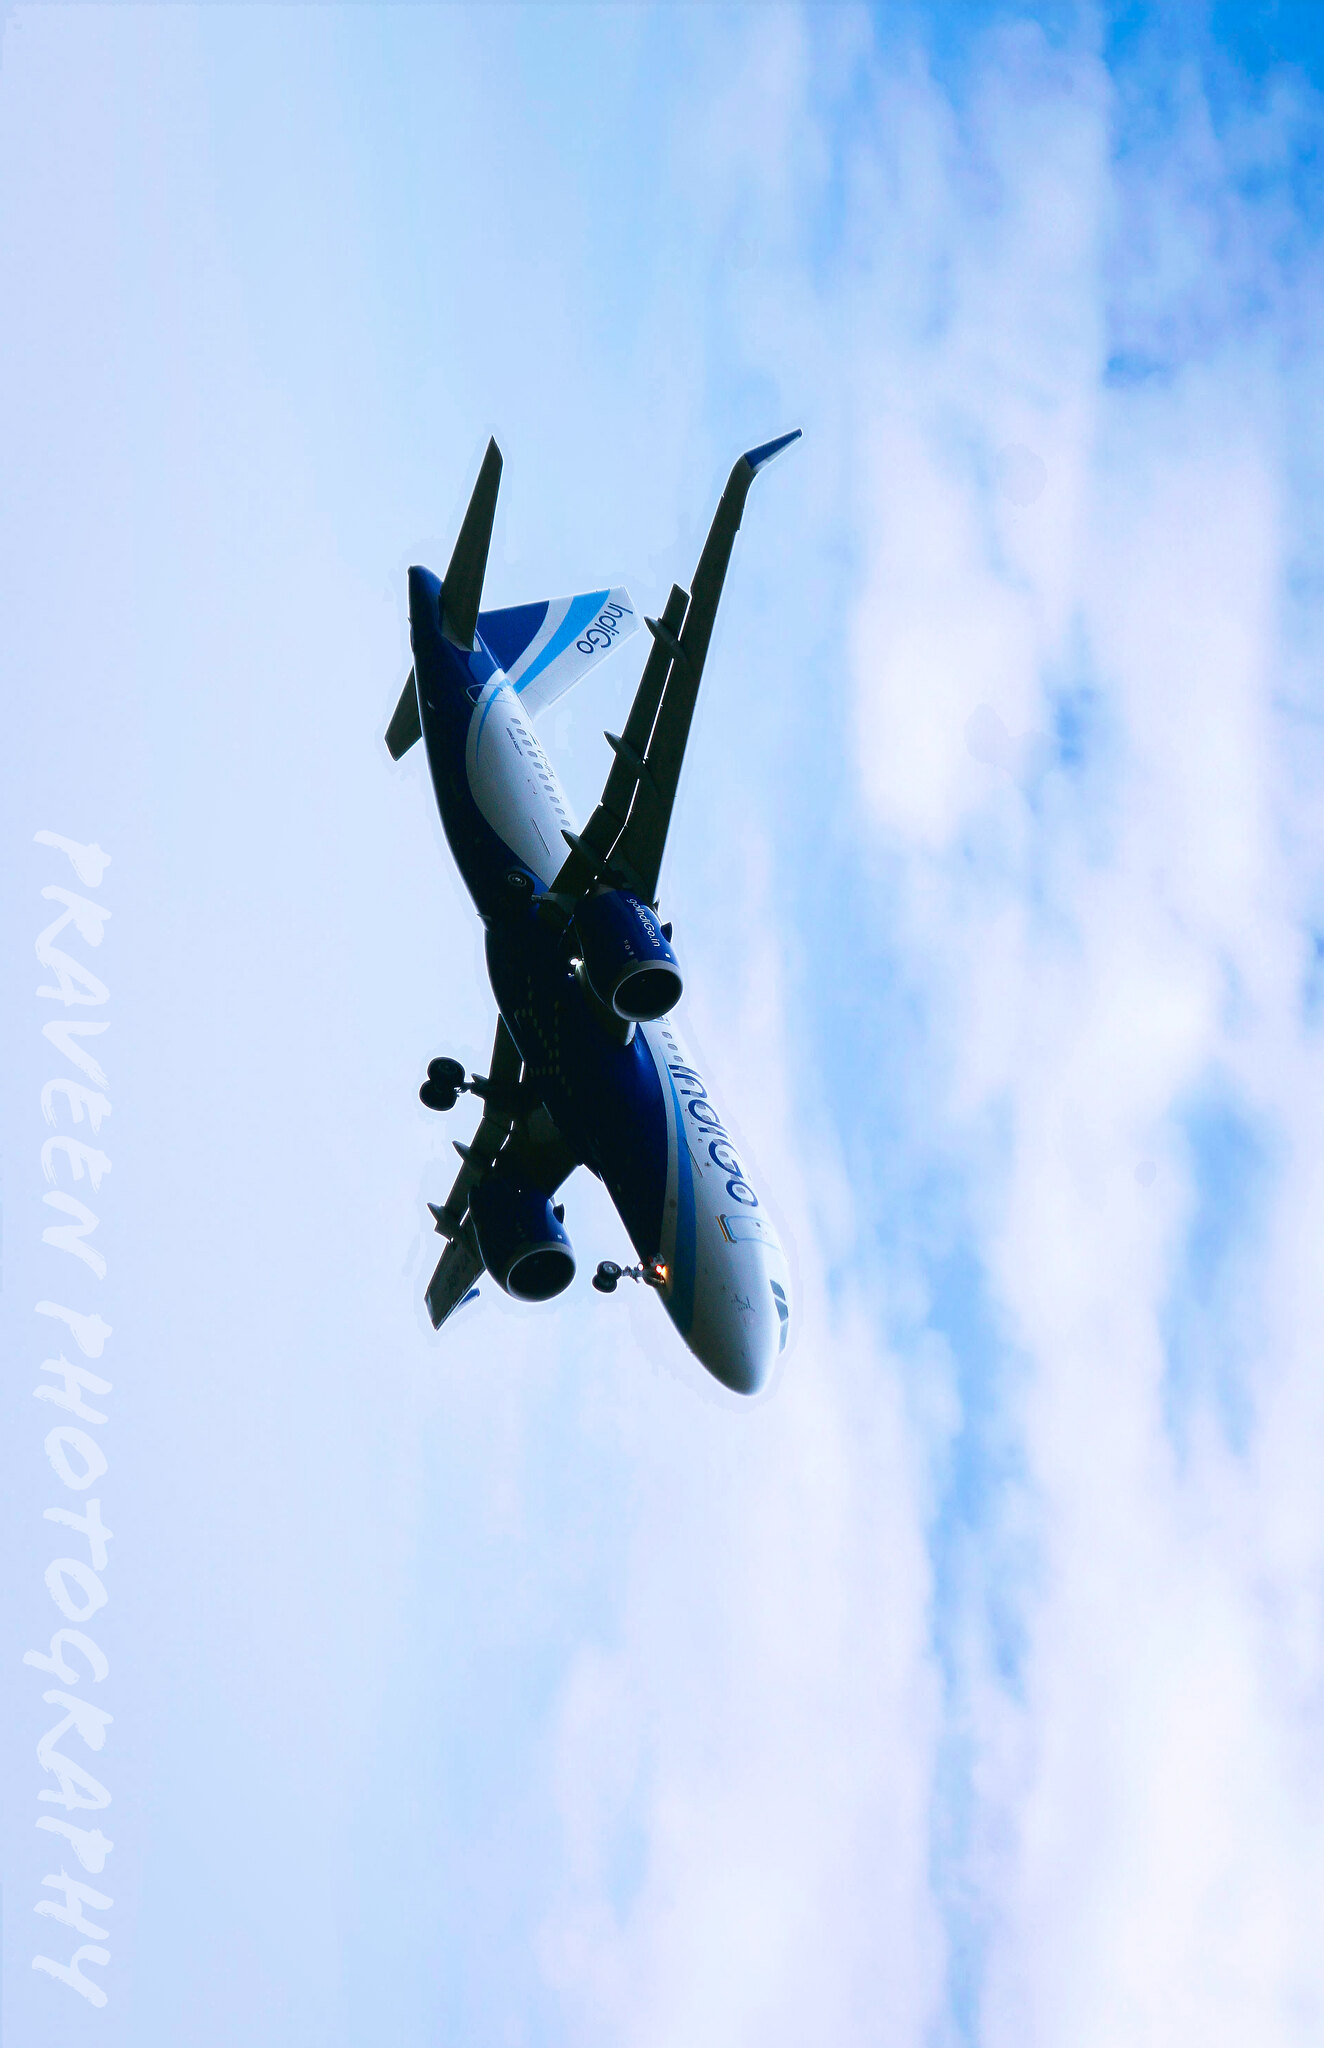aeroplane: (378, 425, 816, 1396)
